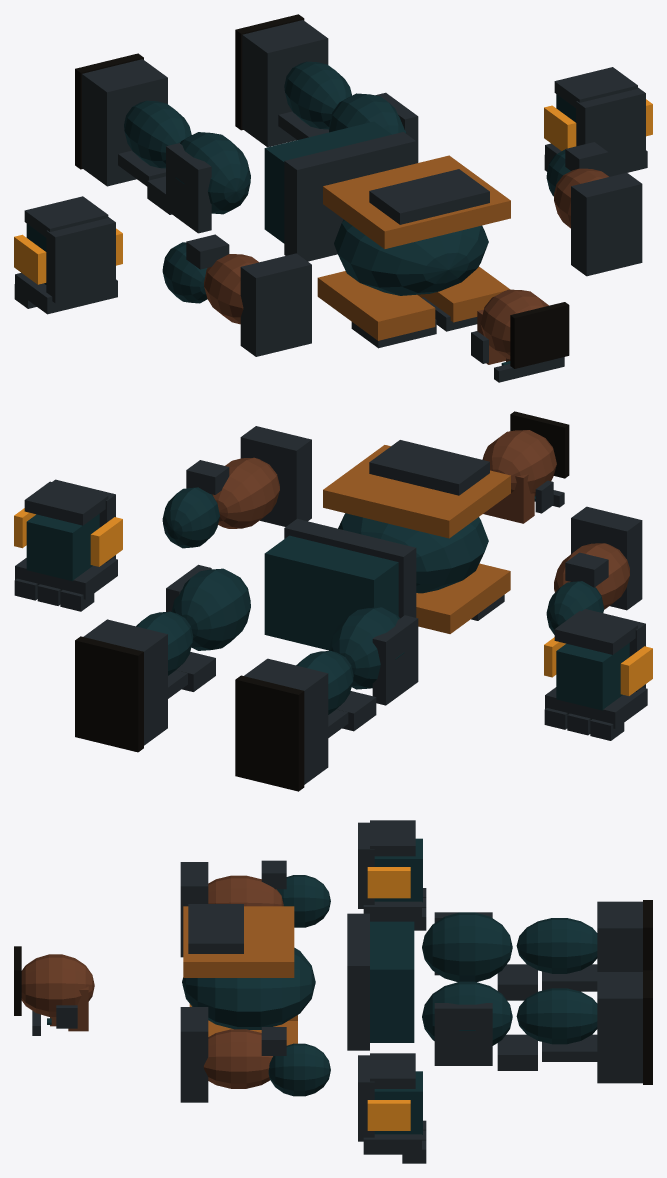
The model's file is brack_exploded.obj.
3 views of the same model, one above another, from view 1: azimuth 30°, elevation 25°; view 2: azimuth 150°, elevation 25°; view 3: azimuth 270°, elevation 25° (orthographic). The views are drawn at different scales.
Visible parts, largest first — view 1: 07_Belt, 03_Undershirt, 04_JacketBack, 16_Boot_L, 08_Shoulder_L, 16_Boot_R, 08_Shoulder_R, 10_Wrist_R, 04_JacketFront_R, 10_Wrist_L, 06_BackPlate, 12_TrousersHip (+29 smaller); view 2: 12_TrousersHip, 04_JacketBack, 16_Sole_R, 16_Sole_L, 03_Undershirt, 12_Thigh_L, 08_Shoulder_L, 06_BackPlate, 16_Boot_R, 04_JacketFront_R, 10_Glove_L, 10_Glove_R (+27 smaller); view 3: 03_Undershirt, 12_TrousersHip, 04_JacketBack, 16_Boot_L, 12_Thigh_R, 12_Calf_L, 12_Calf_R, 13_ThighArmor_L, 01_Head, 08_UpperArm_L, 16_Boot_R, 07_Belt (+29 smaller).
Boxes of the visible parts, <box> form: 07_Belt: <box>284,132,416,261</box>; 03_Undershirt: <box>334,219,488,295</box>; 04_JacketBack: <box>323,155,510,248</box>; 16_Boot_L: <box>242,20,328,147</box>; 08_Shoulder_L: <box>571,172,642,276</box>; 16_Boot_R: <box>82,59,167,186</box>; 08_Shoulder_R: <box>240,253,311,356</box>; 10_Wrist_R: <box>46,217,115,303</box>; 04_JacketFront_R: <box>317,271,435,340</box>; 10_Wrist_L: <box>576,87,645,168</box>; 06_BackPlate: <box>369,169,489,224</box>; 12_TrousersHip: <box>264,121,391,243</box>; 12_TrousersHip: <box>264,535,398,650</box>; 04_JacketBack: <box>323,445,510,538</box>; 16_Sole_R: <box>235,675,304,791</box>; 16_Sole_L: <box>75,636,143,752</box>; 03_Undershirt: <box>338,513,488,593</box>; 12_Thigh_L: <box>171,568,250,650</box>; 08_Shoulder_L: <box>240,426,311,526</box>; 06_BackPlate: <box>369,440,489,495</box>; 16_Boot_R: <box>244,658,328,784</box>; 04_JacketFront_R: <box>416,563,510,633</box>; 10_Glove_L: <box>26,514,99,581</box>; 10_Glove_R: <box>556,643,629,710</box>; 03_Undershirt: <box>182,947,315,1029</box>; 12_TrousersHip: <box>370,921,414,1042</box>; 04_JacketBack: <box>183,906,294,977</box>; 16_Boot_L: <box>597,972,642,1083</box>; 12_Thigh_R: <box>422,912,512,981</box>; 12_Calf_L: <box>516,988,597,1044</box>; 12_Calf_R: <box>516,918,597,973</box>; 13_ThighArmor_L: <box>434,1003,492,1065</box>; 01_Head: <box>21,954,94,1016</box>; 08_UpperArm_L: <box>203,1029,272,1088</box>; 16_Boot_R: <box>597,901,642,971</box>; 07_Belt: <box>347,913,369,1050</box>.
Bounding box in the file's own units: 2.53 × 0.555 × 2.53.
